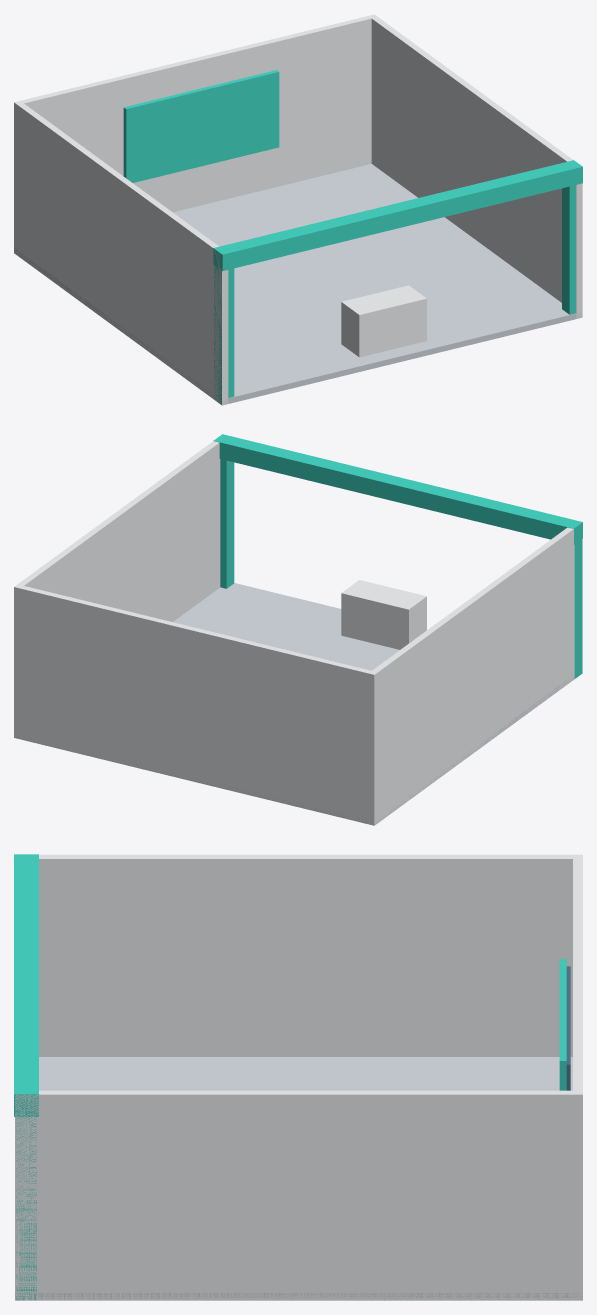
3 renders of one model, top to bottom at view 1: azimuth 30°, elevation 25°; view 2: azimuth 150°, elevation 25°; view 3: azimuth 270°, elevation 25°, orthographic. The views are drawn at different scales.
Parts seen in each view (by area): view 1: Exhibition Booth Concept; view 2: Exhibition Booth Concept; view 3: Exhibition Booth Concept.
Part boxes in pixels (x1=…): Exhibition Booth Concept: x1=14, y1=14, x2=582, y2=405; Exhibition Booth Concept: x1=14, y1=434, x2=582, y2=825; Exhibition Booth Concept: x1=14, y1=854, x2=582, y2=1300.
Size of the model in its own units: 8 by 3.2 by 8.01.
